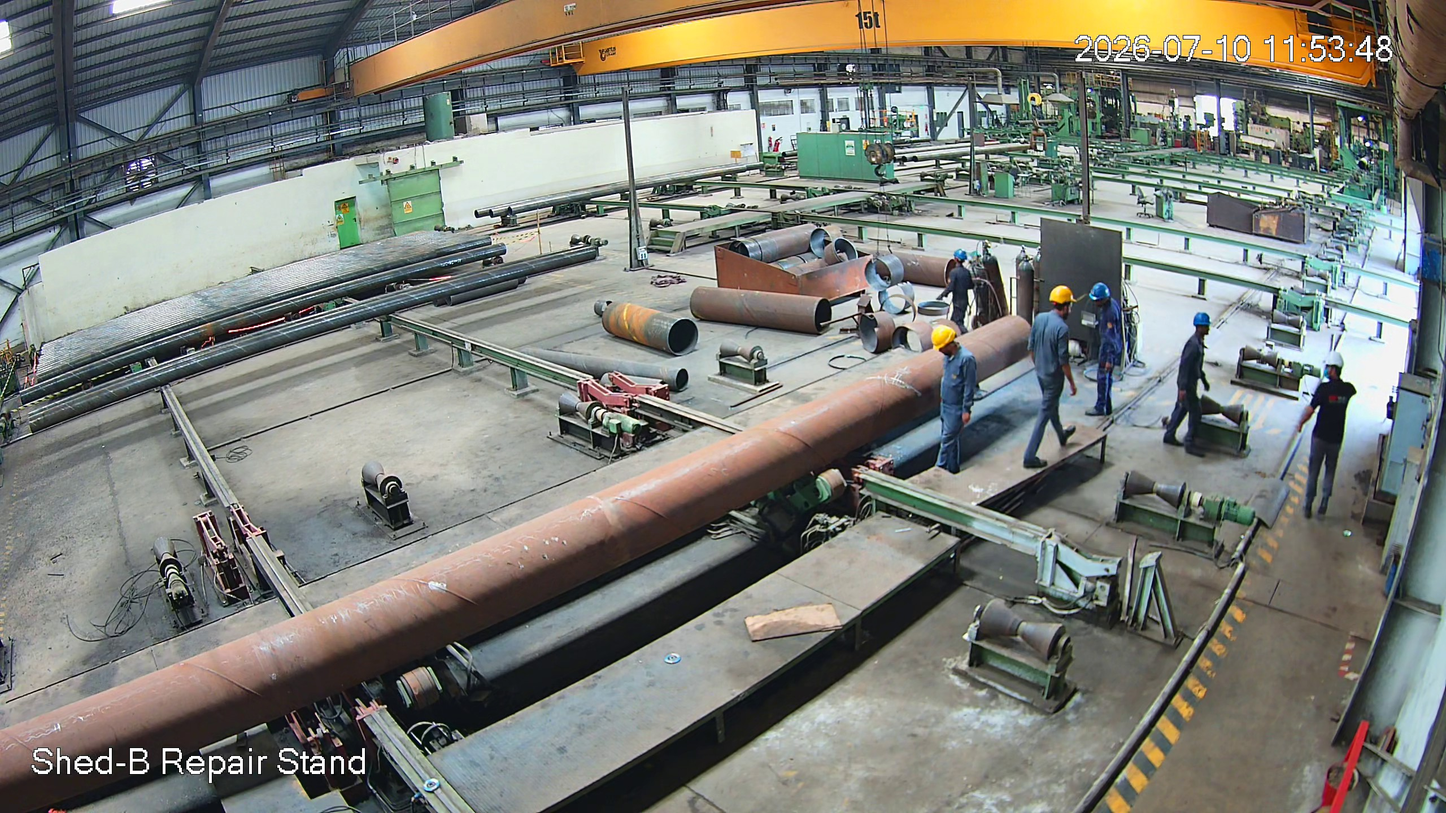Helmet: (925, 310, 969, 368), (1044, 271, 1077, 334), (1312, 338, 1345, 390), (1183, 300, 1217, 342), (1090, 272, 1114, 328), (950, 242, 967, 267)
Person: (918, 320, 992, 487), (1299, 342, 1361, 523), (1028, 277, 1082, 479), (1085, 280, 1134, 433), (1182, 305, 1218, 462), (942, 245, 974, 322)
